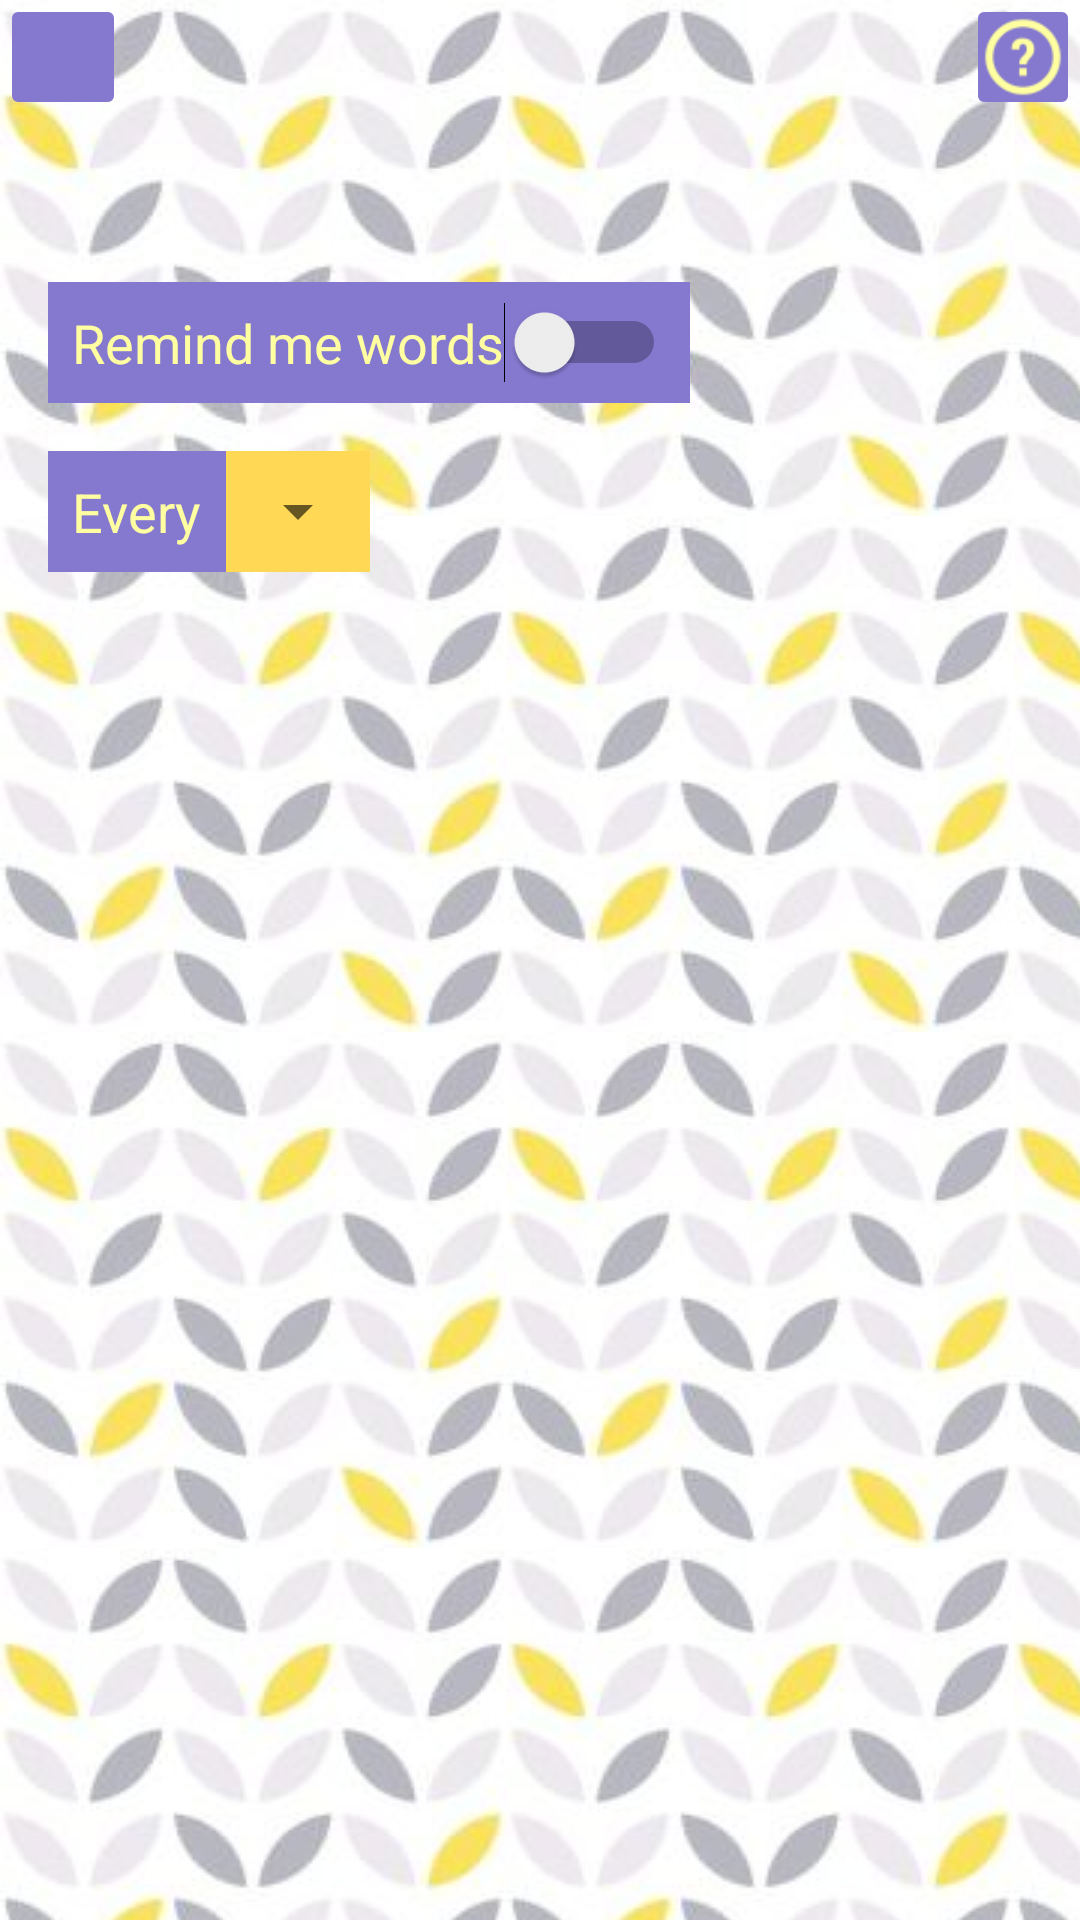

Screen size 1080px×1920px. Icon name, then its center in pixels as (x,y):
help: (1023,57)
